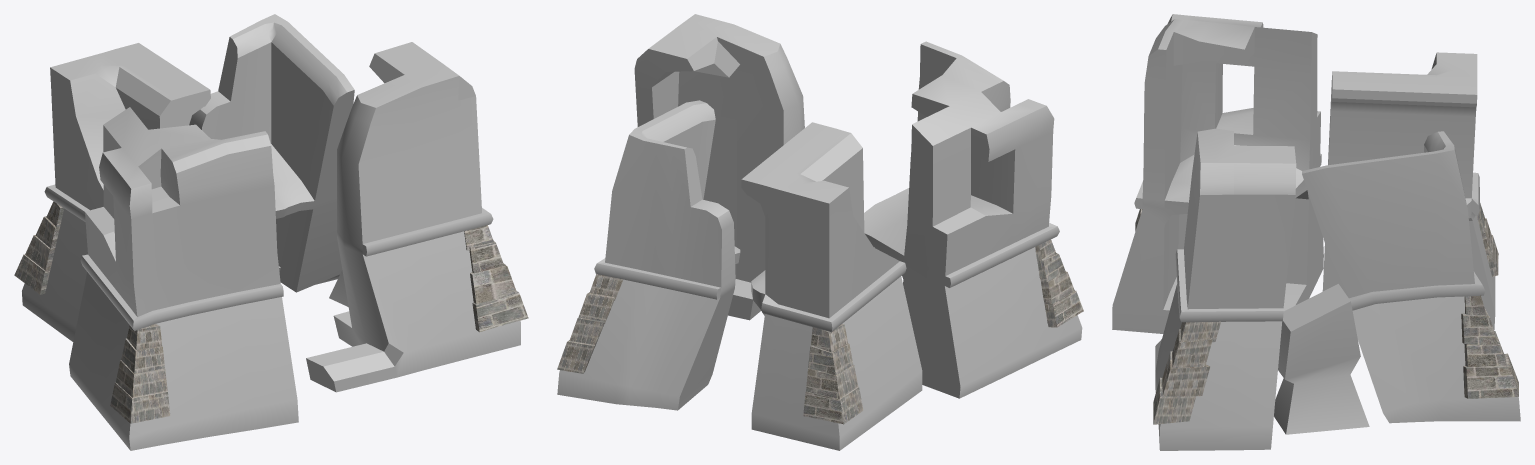
The model's file is ruined tower.fbx.
3 renders of one model, left to right at view 1: azimuth 30°, elevation 25°; view 2: azimuth 150°, elevation 25°; view 3: azimuth 270°, elevation 25°, orthographic. The views are drawn at different scales.
Visible parts, largest first — view 1: pPlane3, pPlane3.002, Cube.004, Cube.003, Cube.001; view 2: pPlane3, pPlane3.002, Cube.001, Cube.000, Cube.004; view 3: pPlane3, pPlane3.001, Cube.003, pPlane3.002, Cube.000, Cube.001.
Part boxes in pixels (<box>): pPlane3: <box>22,14,520,450</box>; pPlane3.002: <box>44,184,493,330</box>; Cube.004: <box>110,323,170,423</box>; Cube.003: <box>464,225,528,332</box>; Cube.001: <box>14,201,63,294</box>; pPlane3: <box>557,14,1082,450</box>; pPlane3.002: <box>594,222,1059,332</box>; Cube.001: <box>803,324,863,424</box>; Cube.000: <box>557,274,623,373</box>; Cube.004: <box>1035,239,1083,327</box>; pPlane3: <box>1112,14,1520,450</box>; pPlane3.001: <box>1274,284,1369,434</box>; Cube.003: <box>1153,321,1220,424</box>; pPlane3.002: <box>1136,153,1485,322</box>; Cube.000: <box>1461,295,1518,398</box>; Cube.001: <box>1477,203,1498,276</box>.
Size of the model in its own units: 1024 by 657 by 881.
